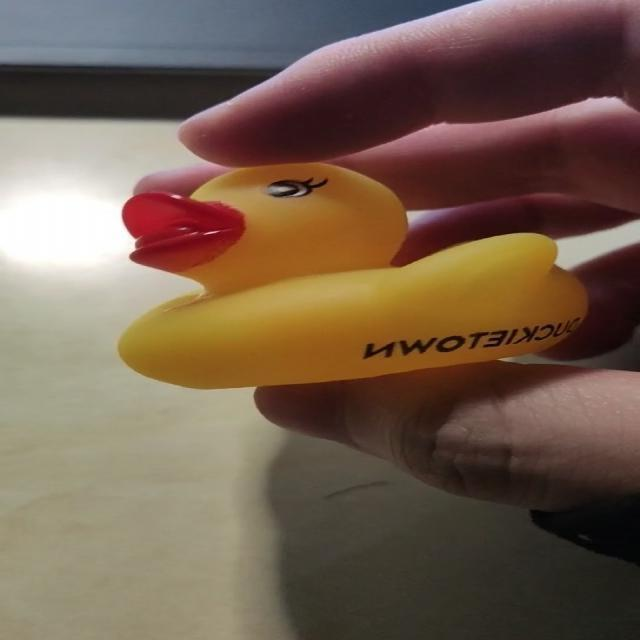rubber-duck: (118, 162, 585, 386)
